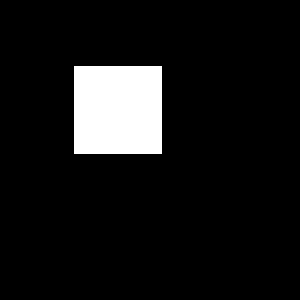circle: (74, 66, 162, 154)
rectangle: (116, 113, 150, 147)
